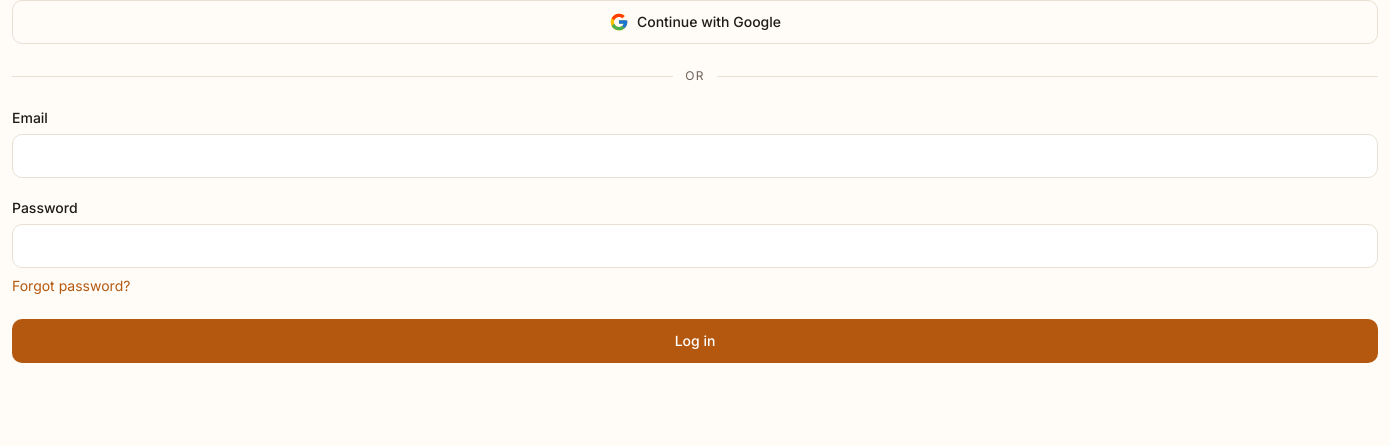
Test case: LoginForm › announces a wrong-password error
The image size is (1390, 446).
Type "s@example.com" into the field labelled "Email" at {"x": 695, "y": 156}, box [12,134,1378,178]
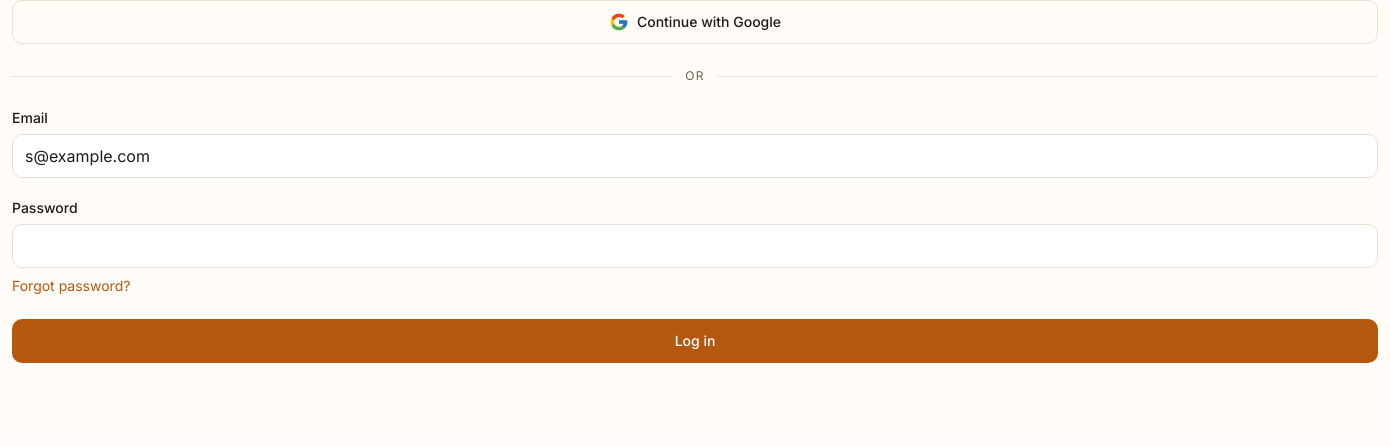
Type "wrong-pass" into the password field labelled "Password" at {"x": 695, "y": 246}, box [12,224,1378,268]
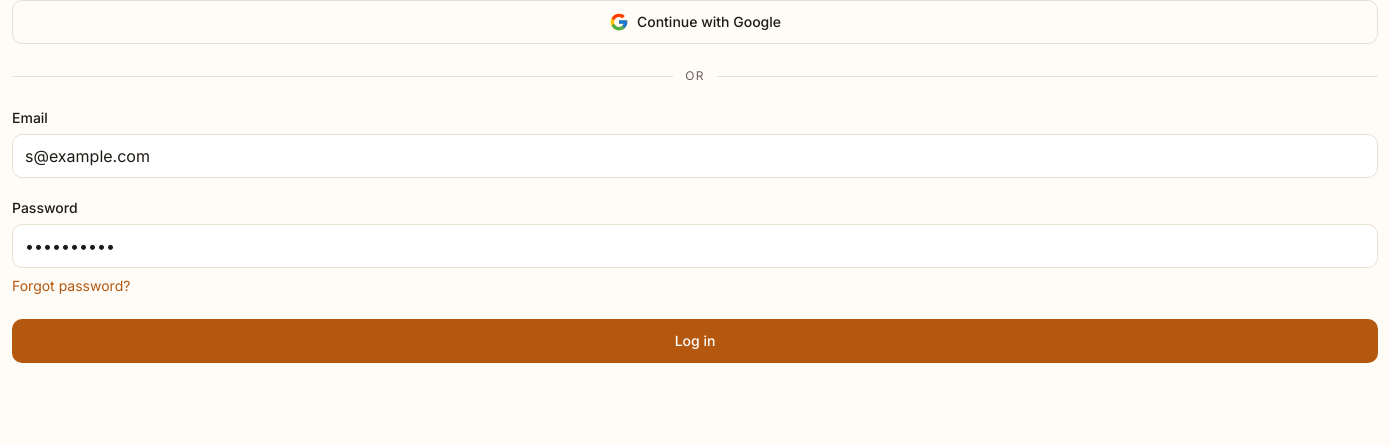
Click the button "Log in" at {"x": 695, "y": 341}, box [12,319,1378,363]
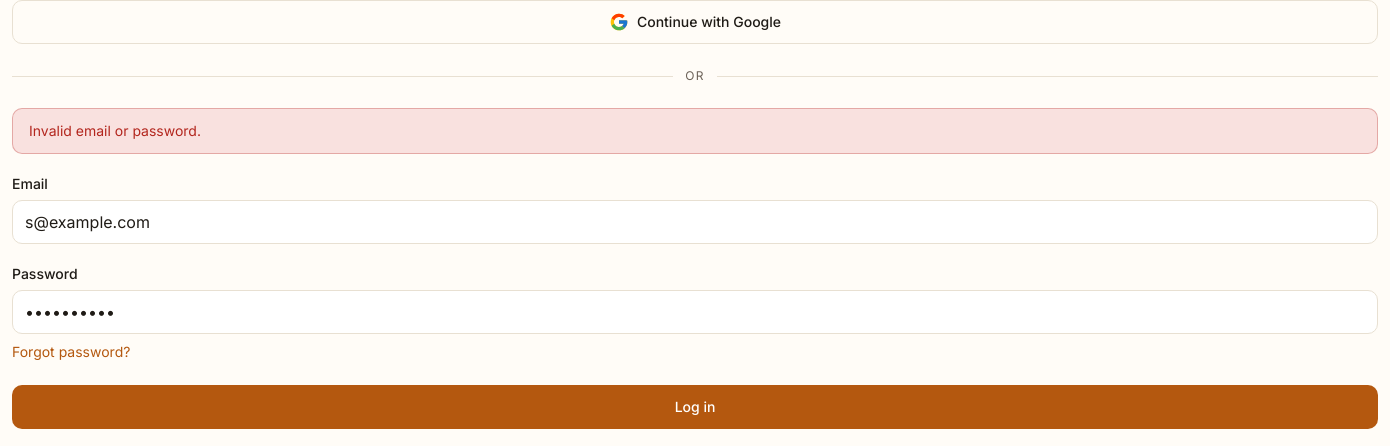
Check: the message reads "Invalid email or password.", box [29,122,201,139]
